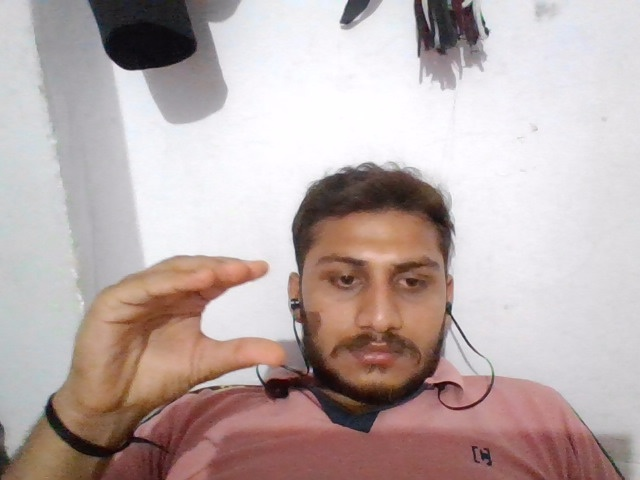No: (64, 230, 295, 412)
